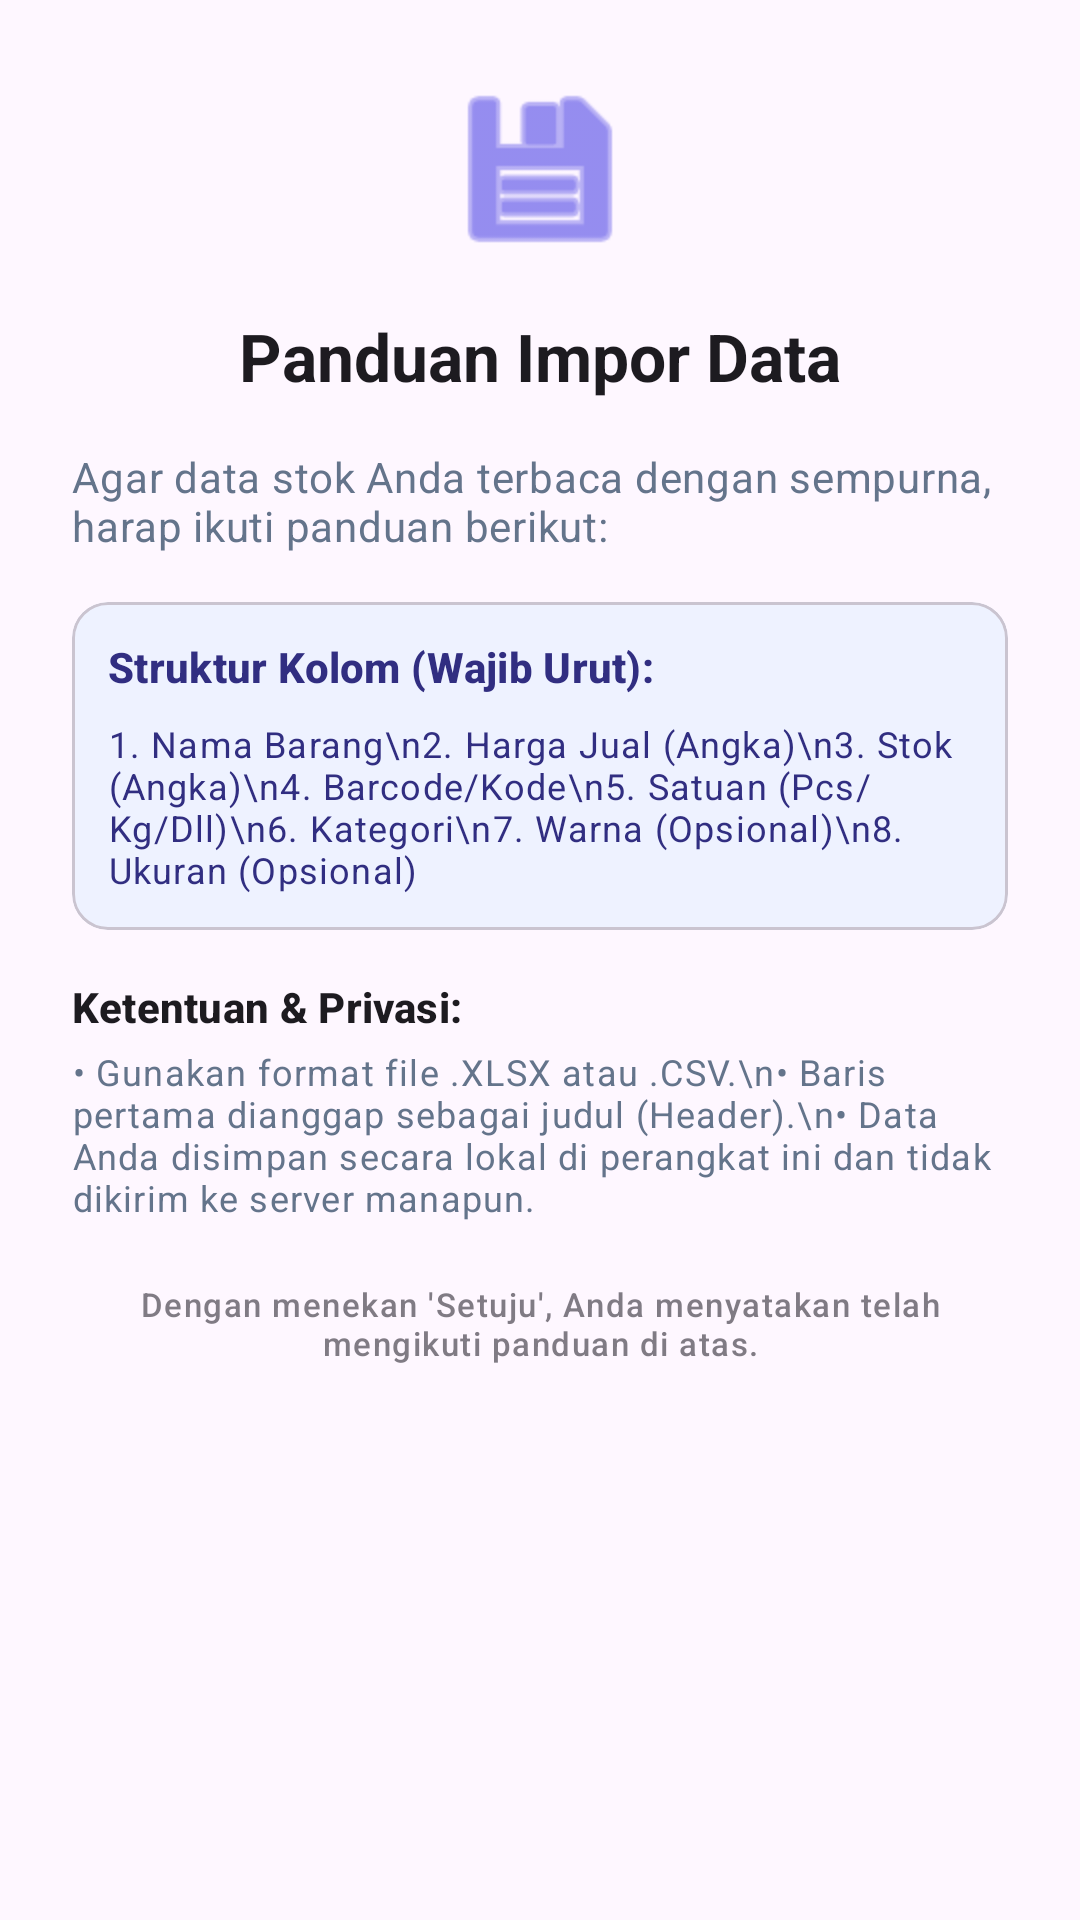

Screen size 1080w x 1920h. Icon name, then its box in pixels as (x1, y1, x2, y2):
save: (468, 96, 612, 242)
